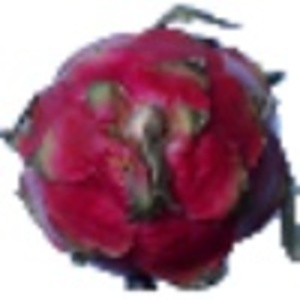pitaia: (1, 3, 300, 294)
